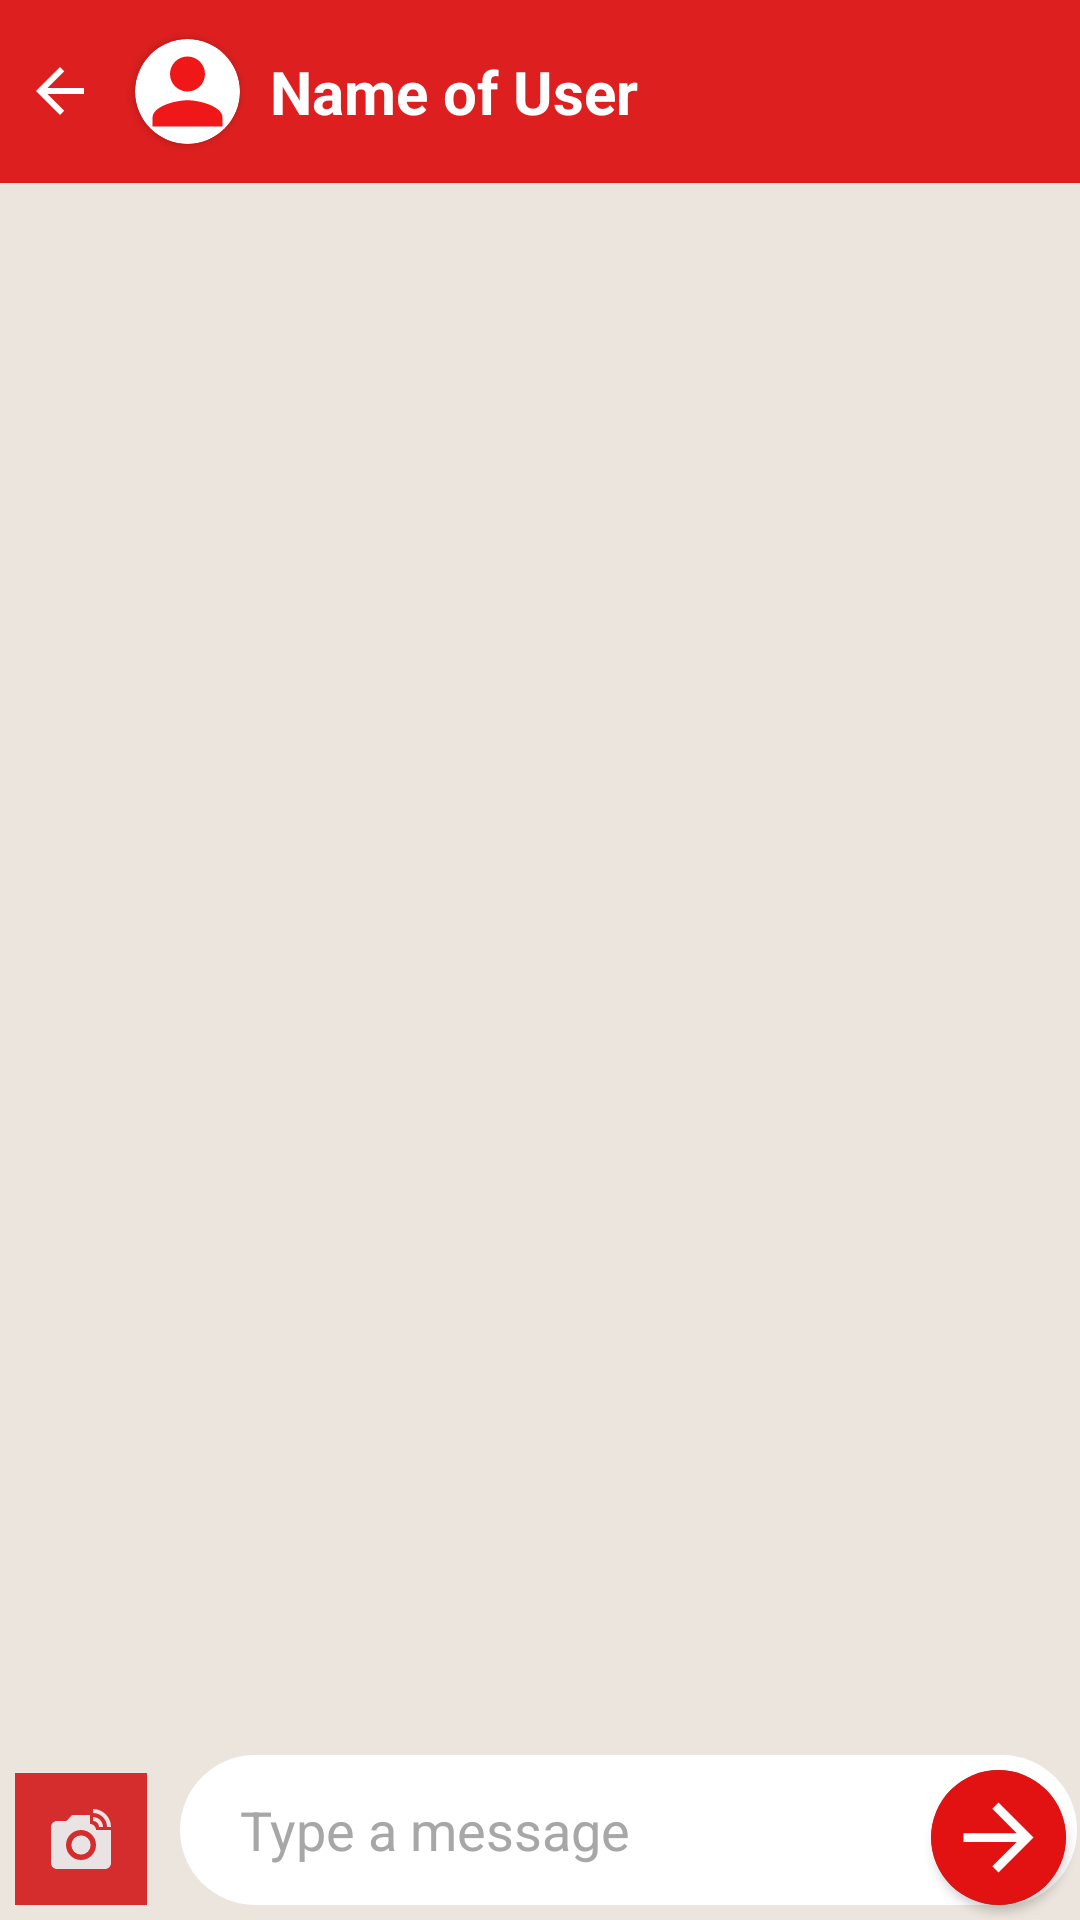

Icon click points for this 1080w x 1920h phone screenshot, format (x,y):
arrow back: (60,91)
arrow forward: (998,1837)
linked camera: (81,1839)
person: (187,91)
